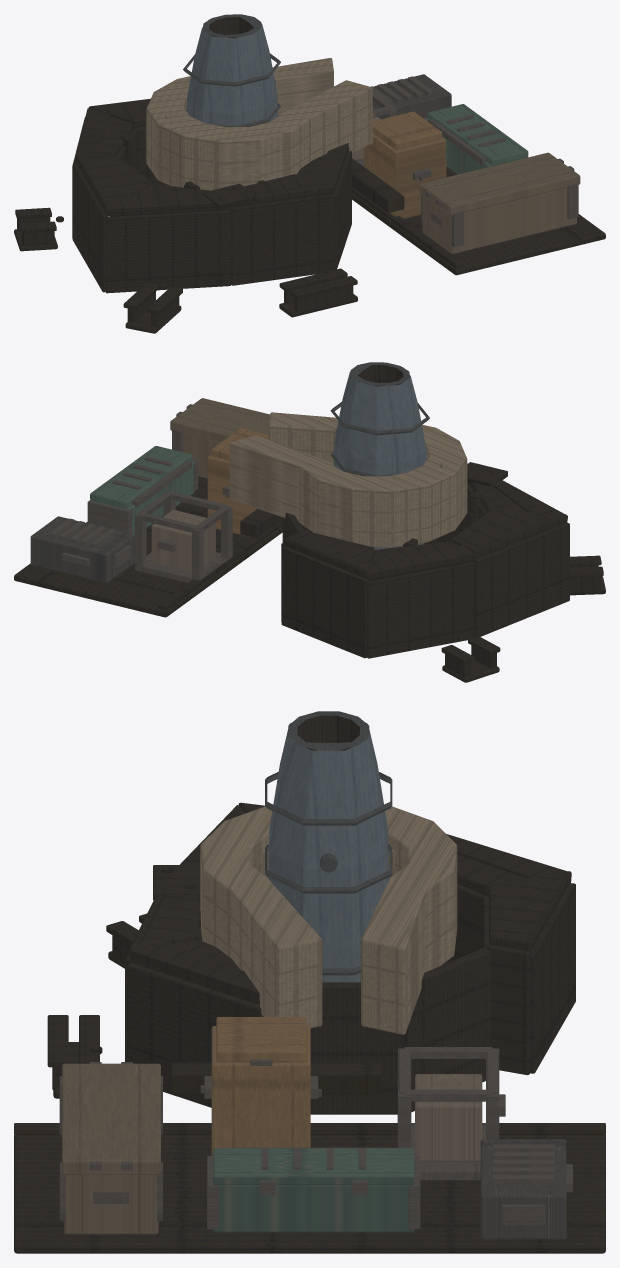
File: cargo_port_lod0.glb
3 views of the same model, one above another, from view 1: azimuth 30°, elevation 25°; view 2: azimuth 150°, elevation 25°; view 3: azimuth 270°, elevation 25° (orthographic). The views are drawn at different scales.
Parts seen in each view (by area): view 1: LOD0_cargo_port, LOD0_cradle, LOD0_crate_0, LOD0_pod, LOD0_crate_1, LOD0_crate_2, LOD0_crate_4, LOD0_crate_3; view 2: LOD0_cargo_port, LOD0_cradle, LOD0_pod, LOD0_crate_3, LOD0_crate_2, LOD0_crate_4, LOD0_crate_0, LOD0_crate_1; view 3: LOD0_cargo_port, LOD0_cradle, LOD0_pod, LOD0_crate_2, LOD0_crate_0, LOD0_crate_1, LOD0_crate_3, LOD0_crate_4.
Boxes of the visible parts, x1,y1,x2,y2 form: LOD0_cargo_port: (14,98,605,333); LOD0_cradle: (146,58,372,190); LOD0_crate_0: (419,152,580,253); LOD0_pod: (183,14,280,126); LOD0_crate_1: (363,111,446,218); LOD0_crate_2: (424,104,528,174); LOD0_crate_4: (370,74,451,119); LOD0_crate_3: (352,91,396,166); LOD0_cargo_port: (14,462,605,682); LOD0_cradle: (229,412,467,547); LOD0_pod: (330,362,429,550); LOD0_crate_3: (135,491,232,585); LOD0_crate_2: (87,446,198,535); LOD0_crate_4: (30,516,134,582); LOD0_crate_0: (170,398,270,478); LOD0_crate_1: (207,428,268,536); LOD0_cargo_port: (14,802,605,1253); LOD0_cradle: (200,806,457,1034); LOD0_pod: (265,711,392,982); LOD0_crate_2: (207,1147,420,1232); LOD0_crate_0: (59,1062,162,1234); LOD0_crate_1: (200,1017,321,1155); LOD0_crate_3: (397,1047,505,1180); LOD0_crate_4: (480,1139,572,1239).
Size of the model in its own units: 2.08 by 1 by 1.58.
Materials: 1 (1 with a texture image).
